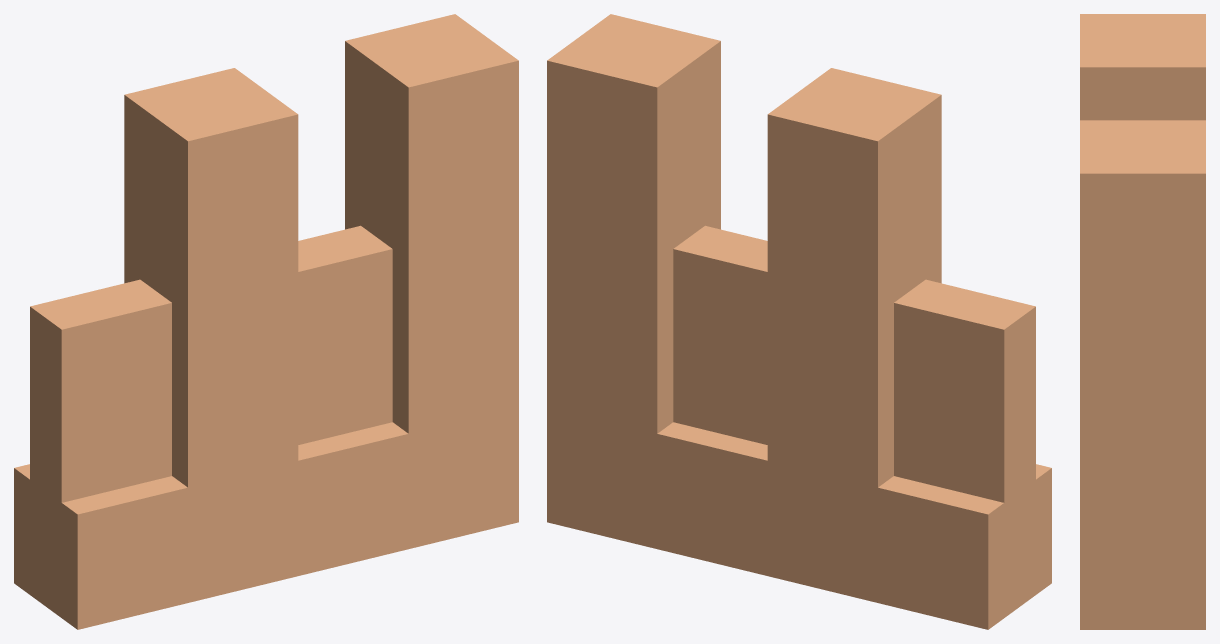
The model's file is sand-fence.obj.
3 views of the same model, side by side, from view 1: azimuth 30°, elevation 25°; view 2: azimuth 150°, elevation 25°; view 3: azimuth 270°, elevation 25° (orthographic).
Bounding box in the file's own units: 8 × 8 × 2.
1 material, 1 textured.
